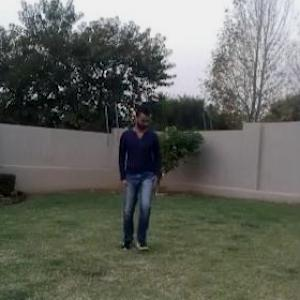follow: (118, 99, 161, 246)
